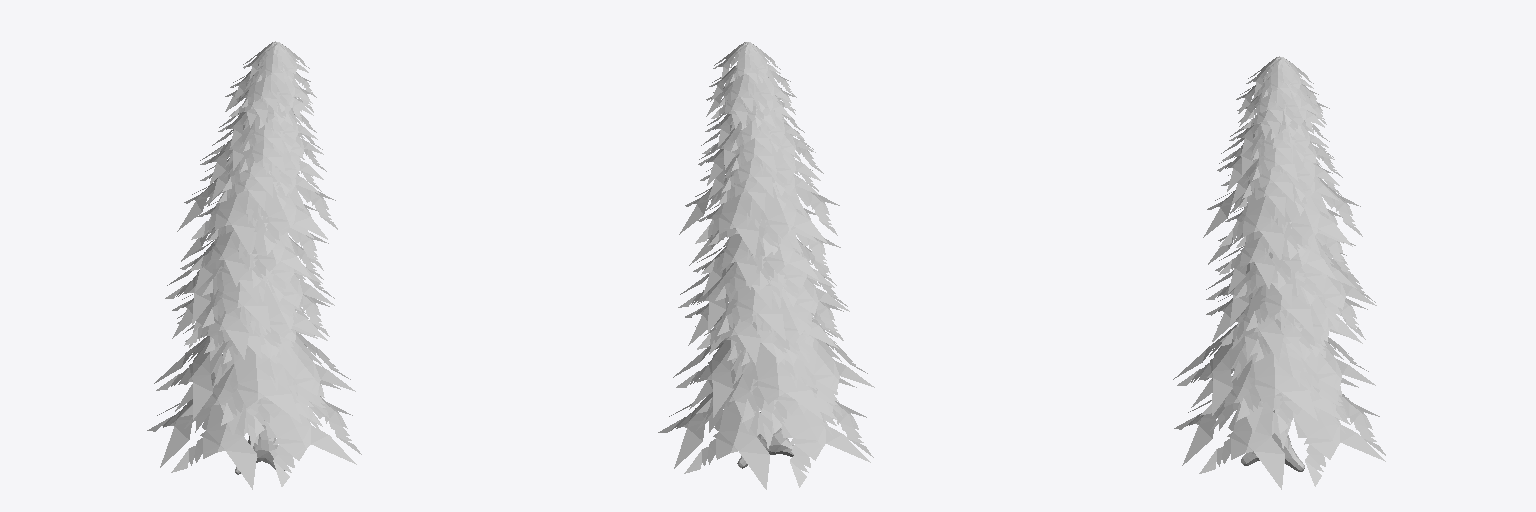
Rendered from evergreen_01.obj.
3 renders of one model, left to right at view 1: azimuth 30°, elevation 25°; view 2: azimuth 150°, elevation 25°; view 3: azimuth 270°, elevation 25°, orthographic.
Parts seen in each view (by area): view 1: Cube, Cube.001; view 2: Cube, Cube.001; view 3: Cube, Cube.001.
Part boxes in pixels (x1,y1,x2,y2): Cube: (147,41,361,489); Cube.001: (235,420,284,474); Cube: (658,42,874,489); Cube.001: (737,412,793,468); Cube: (1173,56,1385,489); Cube.001: (1241,410,1304,471).
Size of the model in its own units: 8.58 by 17.06 by 7.98.